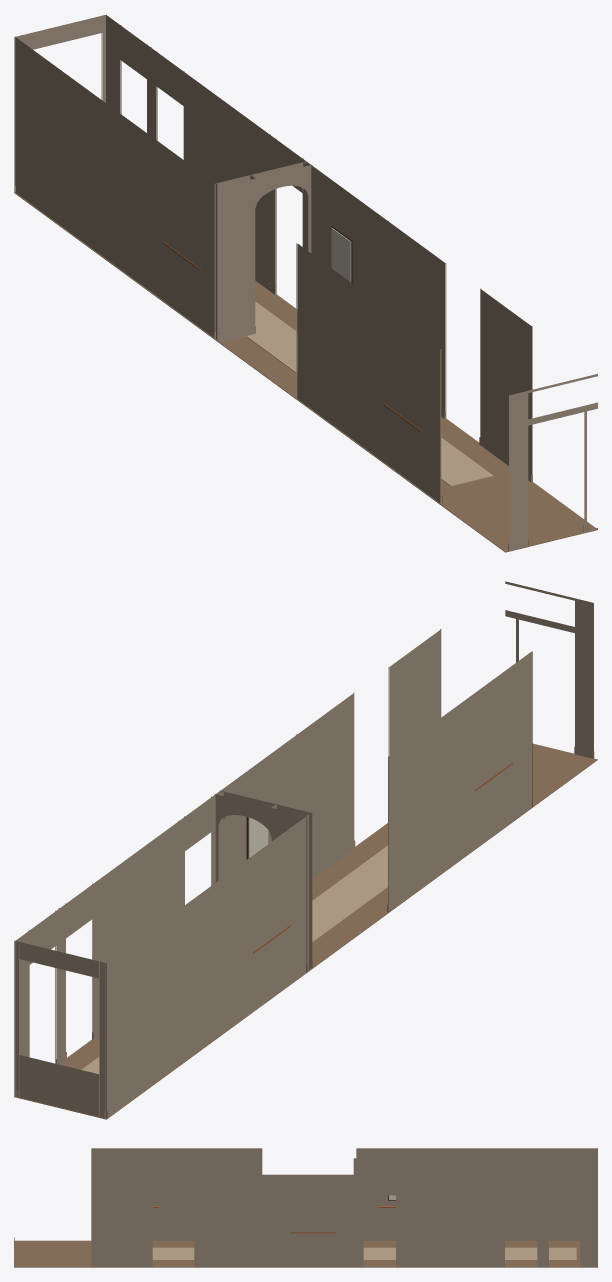
Rendered from corridor-2.glb.
3 views of the same model, one above another, from view 1: azimuth 30°, elevation 25°; view 2: azimuth 150°, elevation 25°; view 3: azimuth 270°, elevation 25° (orthographic). The views are drawn at different scales.
Visible parts, largest first — view 1: DESIGN | corridor removable wall finish, DESIGN | corridor floor finish, DESIGN | Quiet hall runner, DESIGN | Gallery study surface.002; view 2: DESIGN | corridor removable wall finish, DESIGN | corridor floor finish, DESIGN | Quiet hall runner; view 3: DESIGN | corridor removable wall finish, DESIGN | corridor floor finish, DESIGN | Quiet hall runner.
Part boxes in pixels (bbox=[...]): DESIGN | corridor removable wall finish: bbox=[14, 14, 597, 550]; DESIGN | corridor floor finish: bbox=[14, 192, 597, 552]; DESIGN | Quiet hall runner: bbox=[246, 301, 493, 486]; DESIGN | Gallery study surface.002: bbox=[331, 228, 351, 282]; DESIGN | corridor removable wall finish: bbox=[14, 581, 594, 1118]; DESIGN | corridor floor finish: bbox=[14, 743, 597, 1119]; DESIGN | Quiet hall runner: bbox=[81, 845, 387, 1074]; DESIGN | corridor removable wall finish: bbox=[14, 1148, 597, 1267]; DESIGN | corridor floor finish: bbox=[14, 1240, 597, 1267]; DESIGN | Quiet hall runner: bbox=[152, 1247, 576, 1260].
Size of the model in its own units: 1.7 by 2.74 by 15.63.
